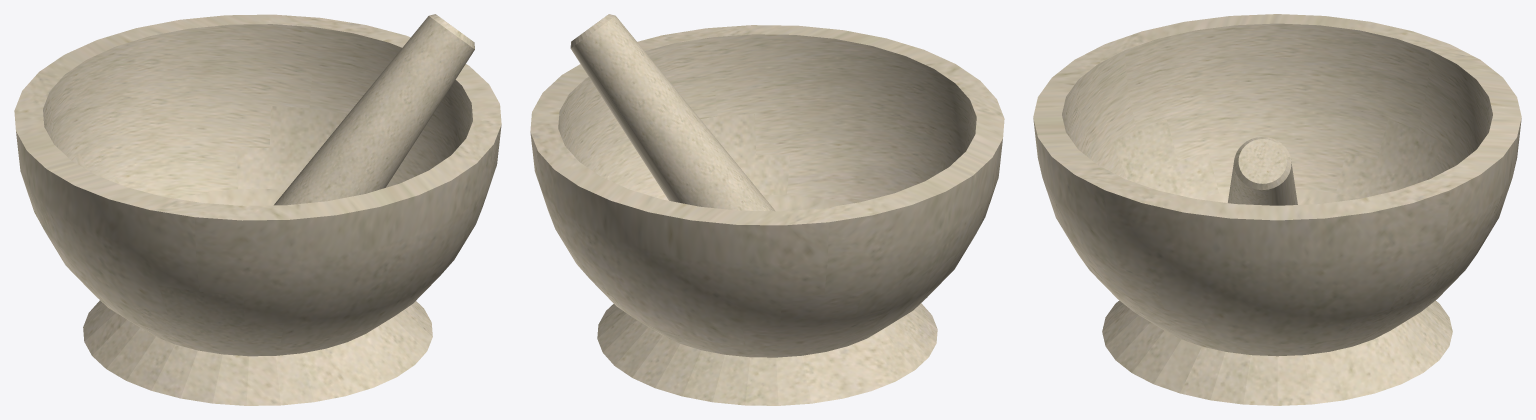
File: Pestle and Mortar.FBX
The picture shows the model from 3 angles, left to right: view 1: azimuth 30°, elevation 25°; view 2: azimuth 150°, elevation 25°; view 3: azimuth 270°, elevation 25°; orthographic projection. The views are drawn at different scales.
Parts seen in each view (by area): view 1: Pestle, Mortar; view 2: Pestle, Mortar; view 3: Pestle, Mortar.
Boxes of the visible parts, x1,y1,x2,y2 form: Pestle: [14, 14, 501, 405]; Mortar: [274, 14, 474, 205]; Pestle: [530, 25, 1004, 405]; Mortar: [570, 14, 775, 211]; Pestle: [1033, 14, 1521, 405]; Mortar: [1228, 137, 1297, 205].
Bounding box in the file's own units: 6.69 × 4.2 × 6.69.
1 material, 1 textured.
